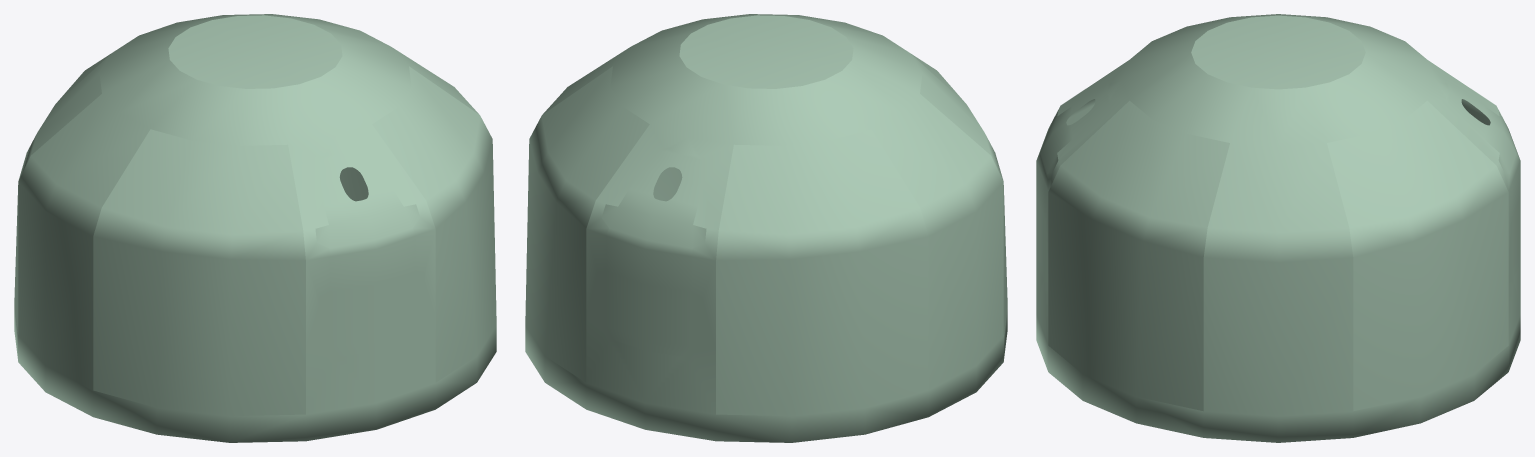
File: REENTRY_CRAFT_INTonly_blocking_polys.fbx
3 views of the same model, side by side, from view 1: azimuth 30°, elevation 25°; view 2: azimuth 150°, elevation 25°; view 3: azimuth 270°, elevation 25° (orthographic).
Visible parts, largest first — view 1: POD_BOD_DOORHOLES_GEO7, POD_DOOR_02_GEO3; view 2: POD_BOD_DOORHOLES_GEO7, POD_DOOR_02_GEO2; view 3: POD_BOD_DOORHOLES_GEO7, POD_DOOR_02_GEO2, POD_DOOR_02_GEO3.
Boxes of the visible parts, <box> form: POD_BOD_DOORHOLES_GEO7: <box>14,14,496,442</box>; POD_DOOR_02_GEO3: <box>315,148,424,358</box>; POD_BOD_DOORHOLES_GEO7: <box>525,14,1007,442</box>; POD_DOOR_02_GEO2: <box>597,148,706,358</box>; POD_BOD_DOORHOLES_GEO7: <box>1036,14,1520,442</box>; POD_DOOR_02_GEO2: <box>1446,82,1520,281</box>; POD_DOOR_02_GEO3: <box>1036,82,1110,281</box>.
Size of the model in its own units: 0.058 by 0.0381 by 0.058.
